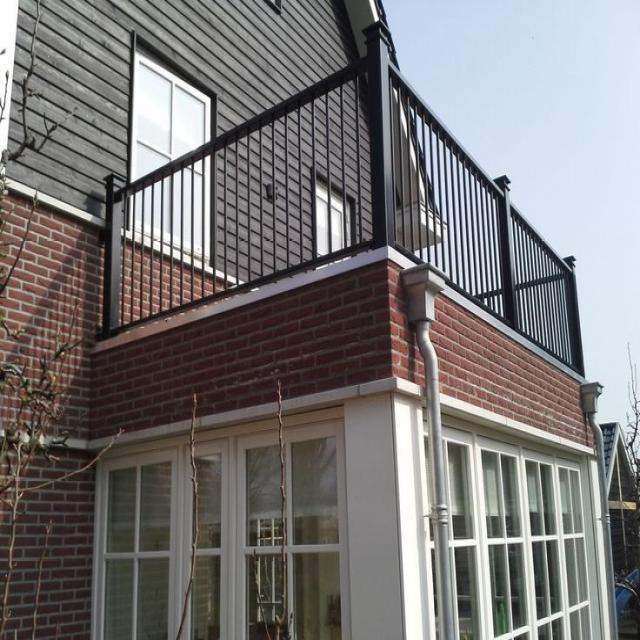fence line: (374, 130, 597, 389), (101, 123, 324, 307), (311, 45, 463, 284)
